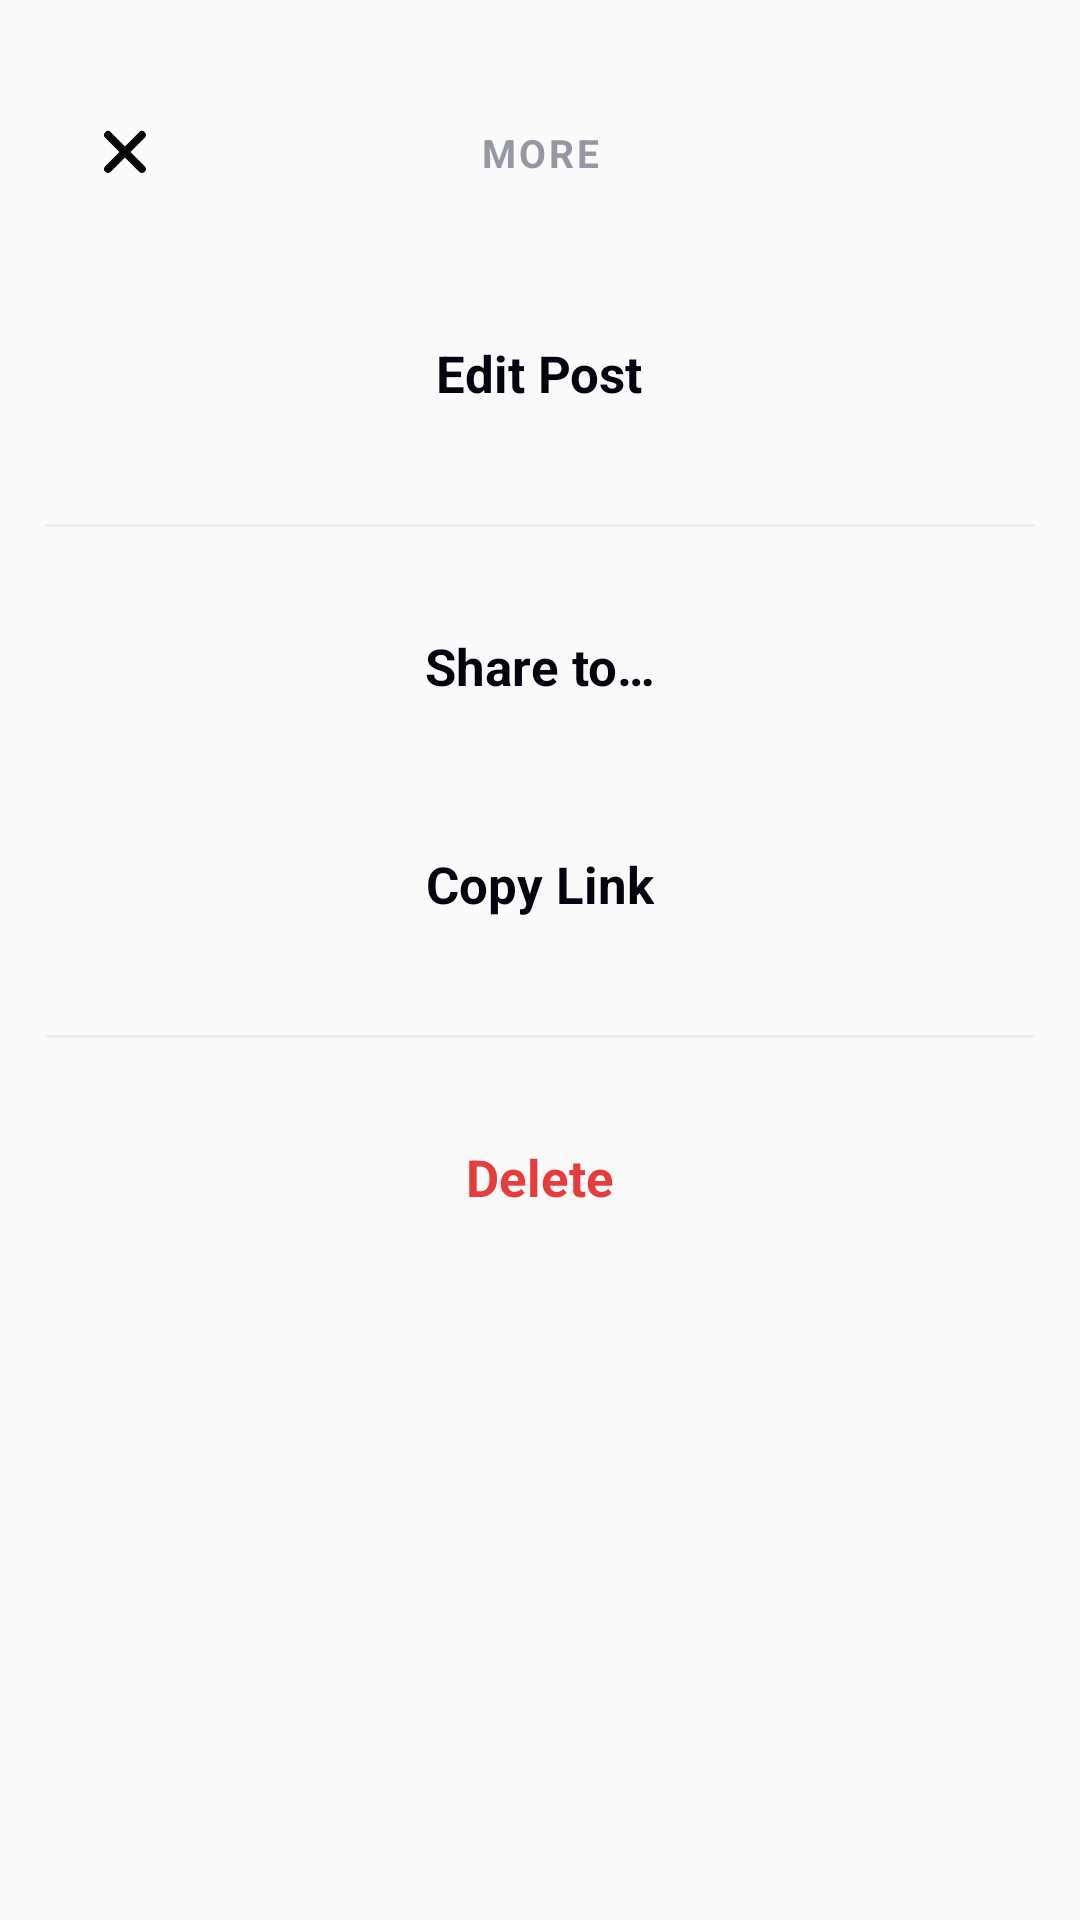

Named icons in this screenshot (1080×1920) and their bounding boxes, [x1=x1, y1=y1, x2=x2, y2=y2]:
Button back: [x1=104, y1=130, x2=146, y2=173]
